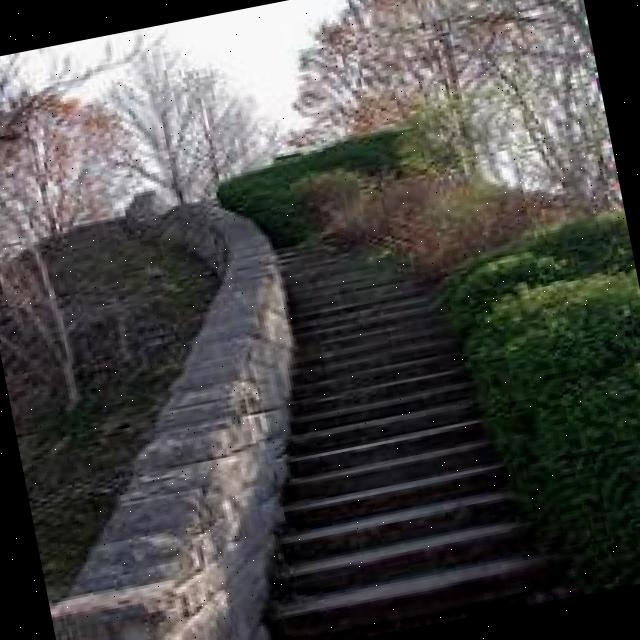stairs: (83, 61, 597, 640)
